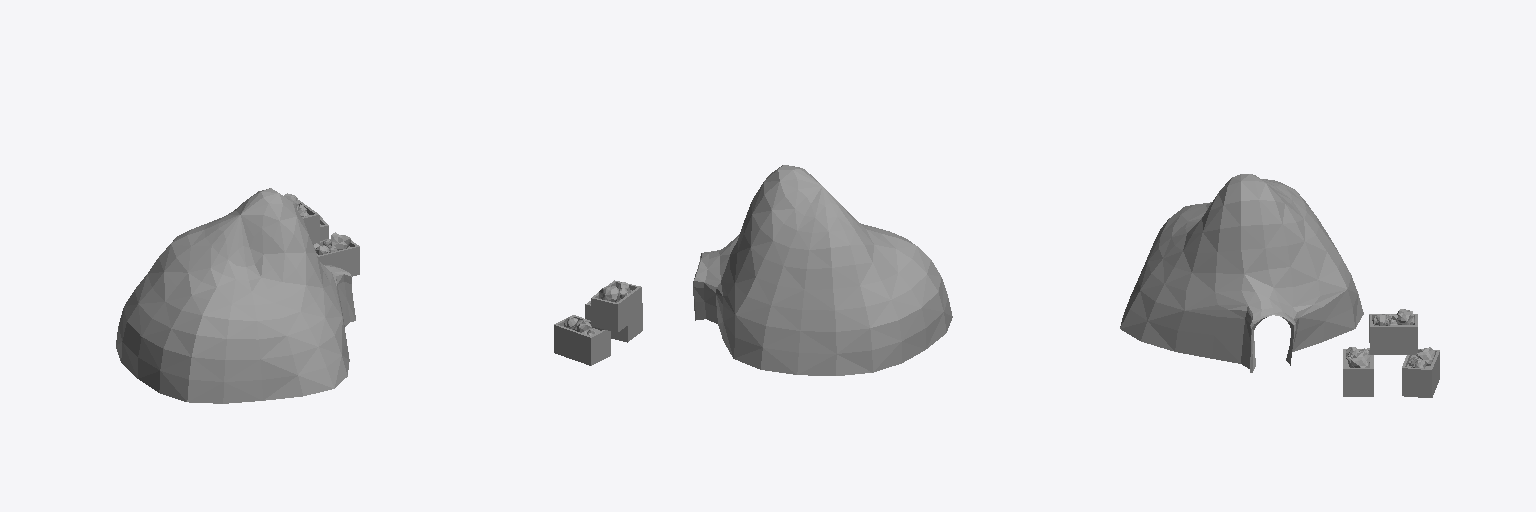
The model's file is gold-mine.obj.
3 views of the same model, side by side, from view 1: azimuth 30°, elevation 25°; view 2: azimuth 150°, elevation 25°; view 3: azimuth 270°, elevation 25° (orthographic).
Visible parts, largest first — view 1: Mesh.013_Mesh.009_Mesh.012_Sph, Mesh.002_Mesh.007_Mesh.007_Pla; view 2: Mesh.013_Mesh.009_Mesh.012_Sph, Mesh.001_Mesh.006_Mesh.010_Pla, Mesh.011_Mesh.008_Mesh.014_Pla, Mesh.002_Mesh.007_Mesh.007_Pla; view 3: Mesh.013_Mesh.009_Mesh.012_Sph, Mesh.011_Mesh.008_Mesh.014_Pla, Mesh.001_Mesh.006_Mesh.010_Pla, Mesh.002_Mesh.007_Mesh.007_Pla.
Boxes of the visible parts, <box> form: Mesh.013_Mesh.009_Mesh.012_Sph: <box>116,188,355,403</box>; Mesh.002_Mesh.007_Mesh.007_Pla: <box>317,239,359,276</box>; Mesh.013_Mesh.009_Mesh.012_Sph: <box>693,165,952,375</box>; Mesh.001_Mesh.006_Mesh.010_Pla: <box>554,315,610,365</box>; Mesh.011_Mesh.008_Mesh.014_Pla: <box>591,280,641,332</box>; Mesh.002_Mesh.007_Mesh.007_Pla: <box>585,301,642,342</box>; Mesh.013_Mesh.009_Mesh.012_Sph: <box>1120,174,1363,372</box>; Mesh.011_Mesh.008_Mesh.014_Pla: <box>1369,314,1417,354</box>; Mesh.001_Mesh.006_Mesh.010_Pla: <box>1402,349,1439,397</box>; Mesh.002_Mesh.007_Mesh.007_Pla: <box>1343,348,1373,396</box>.
Bounding box in the file's own units: 21.78 × 11.69 × 21.88.